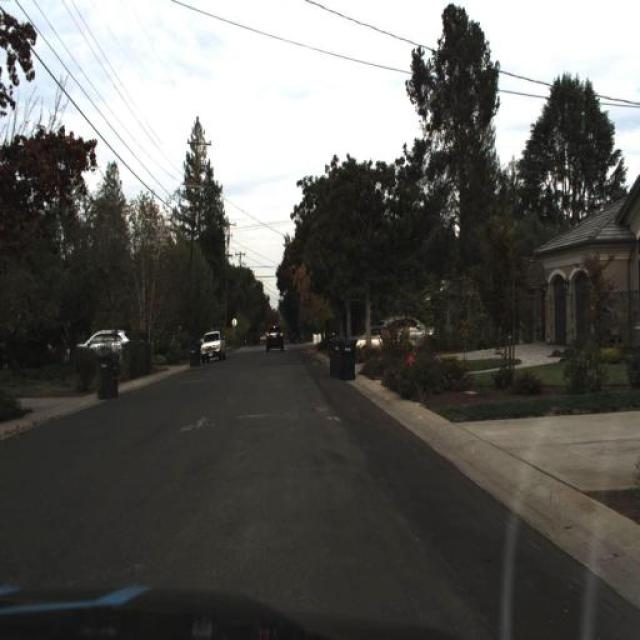car: (74, 326, 134, 370), (72, 314, 132, 354), (356, 318, 403, 358), (382, 314, 434, 341), (194, 329, 226, 363), (200, 328, 230, 362), (260, 322, 286, 357)
